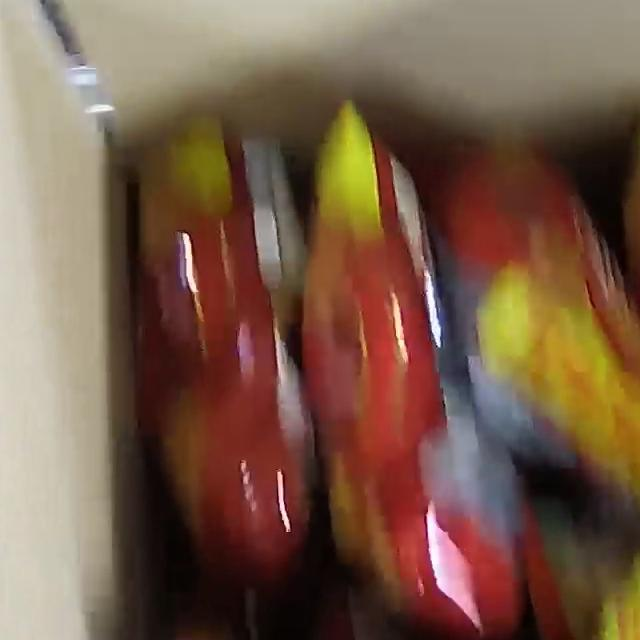masala: (126, 83, 640, 640)
